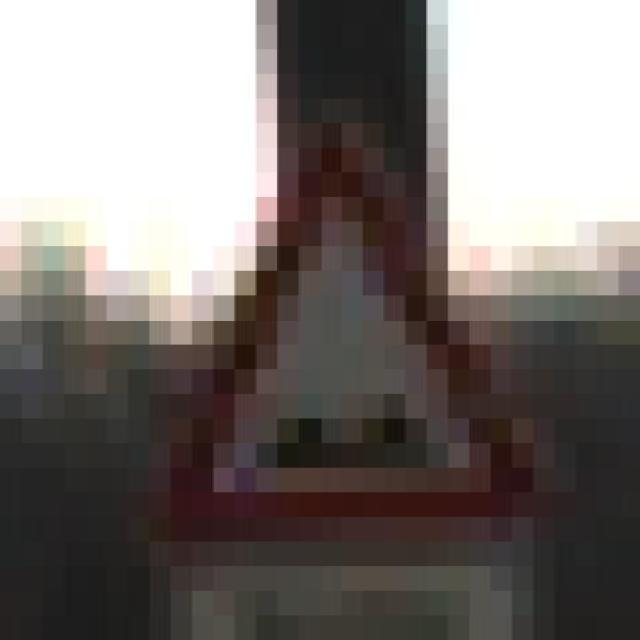Uneven Road: (107, 99, 555, 566)
